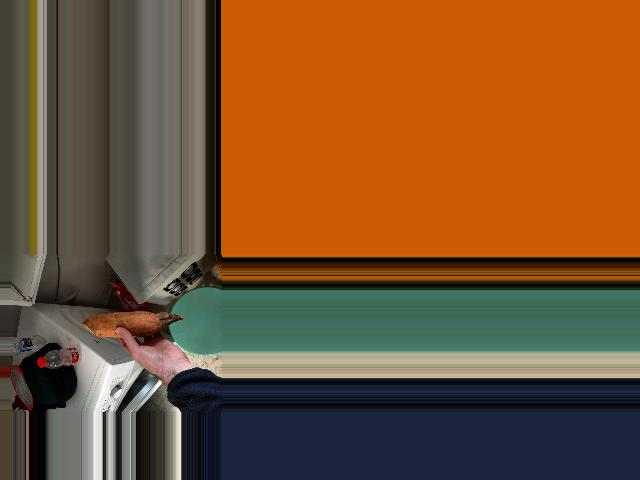sweet_potato: (95, 311, 180, 345)
